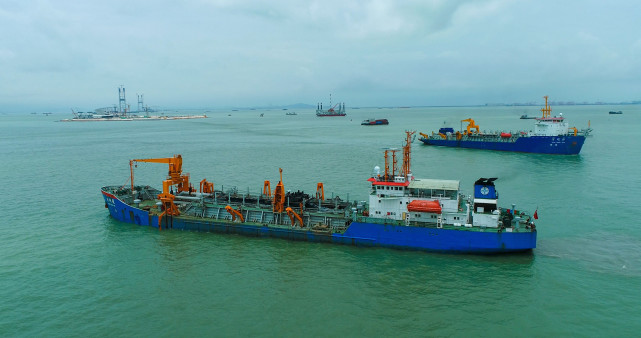Cargoship: (91, 135, 542, 258), (416, 105, 605, 158), (311, 97, 349, 118)
otherboat: (356, 115, 390, 128)
